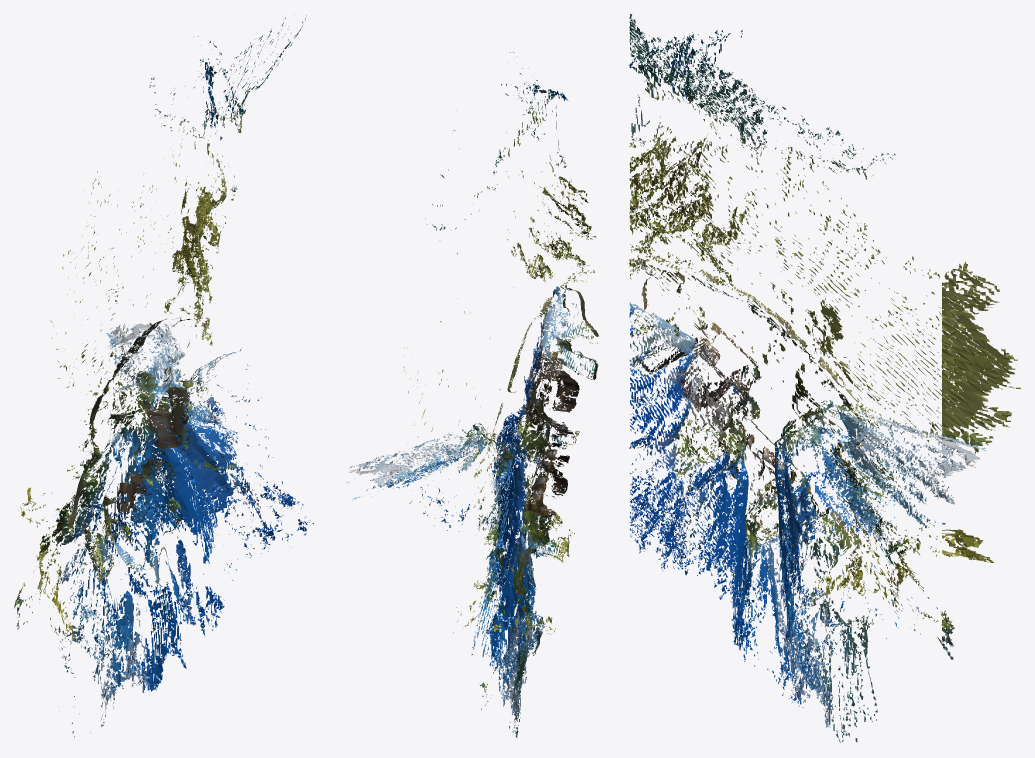
The model's file is hunyuan_scene_001_module_vegetation.glb.
3 views of the same model, side by side, from view 1: azimuth 30°, elevation 25°; view 2: azimuth 150°, elevation 25°; view 3: azimuth 270°, elevation 25° (orthographic). The views are drawn at different scales.
Visible parts, largest first — view 1: hunyuan_scene_001_module_vegetation; view 2: hunyuan_scene_001_module_vegetation; view 3: hunyuan_scene_001_module_vegetation.
Boxes of the visible parts, x1,y1,x2,y2 form: hunyuan_scene_001_module_vegetation: (14, 15, 313, 737); hunyuan_scene_001_module_vegetation: (346, 52, 598, 737); hunyuan_scene_001_module_vegetation: (629, 14, 1020, 742).
Size of the model in its own units: 8.09 by 30.8 by 13.88.
